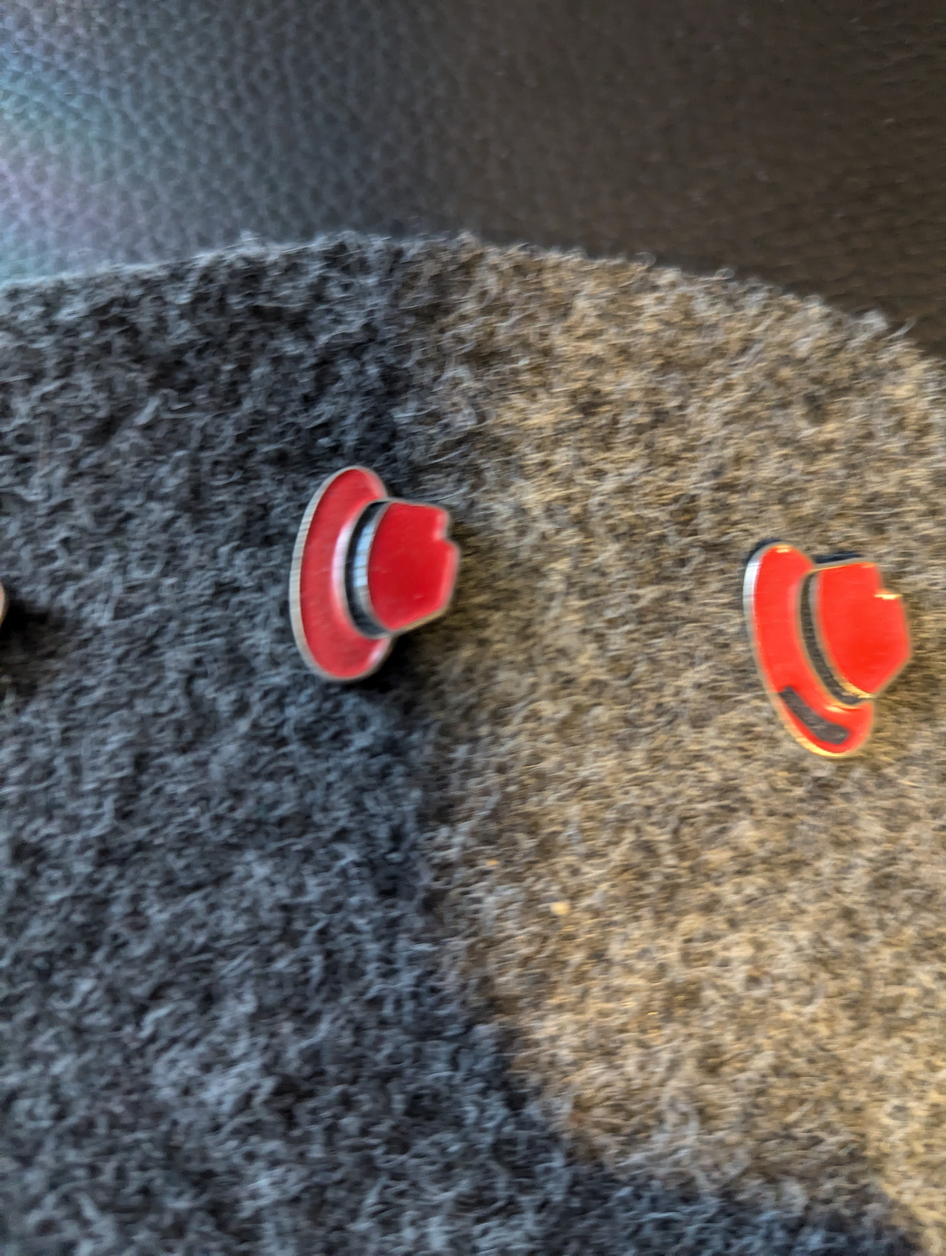Red-Hat: (270, 424, 469, 708), (725, 515, 922, 793)
Scratch: (766, 674, 873, 762)
